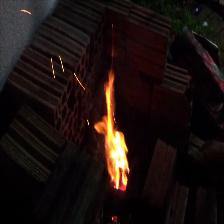fire: (90, 72, 136, 194)
